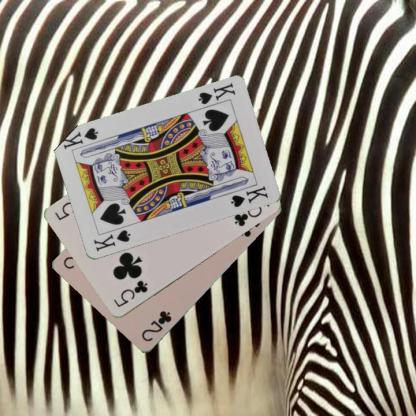2c: (138, 308, 172, 343)
5c: (110, 278, 149, 309)
Ks: (90, 227, 132, 253), (196, 80, 236, 107)
